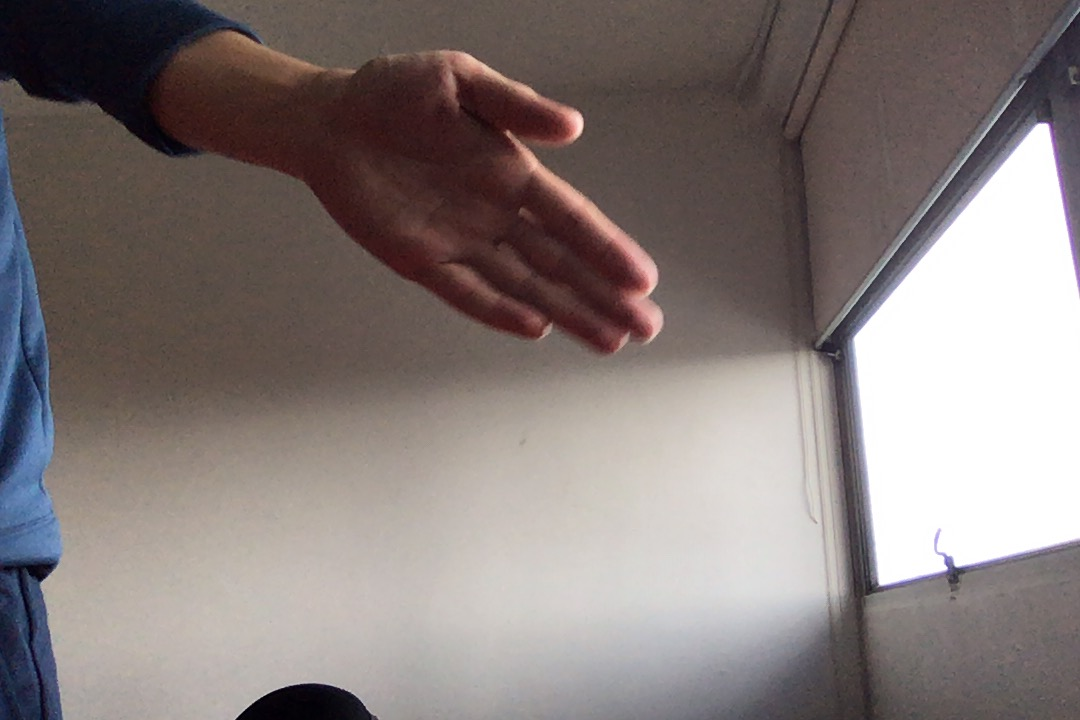palmhand: (303, 43, 676, 364)
